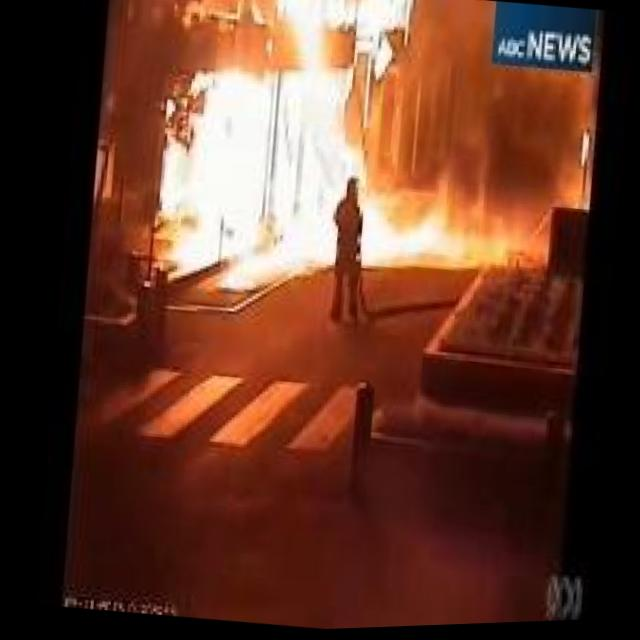fire: (142, 0, 515, 331)
